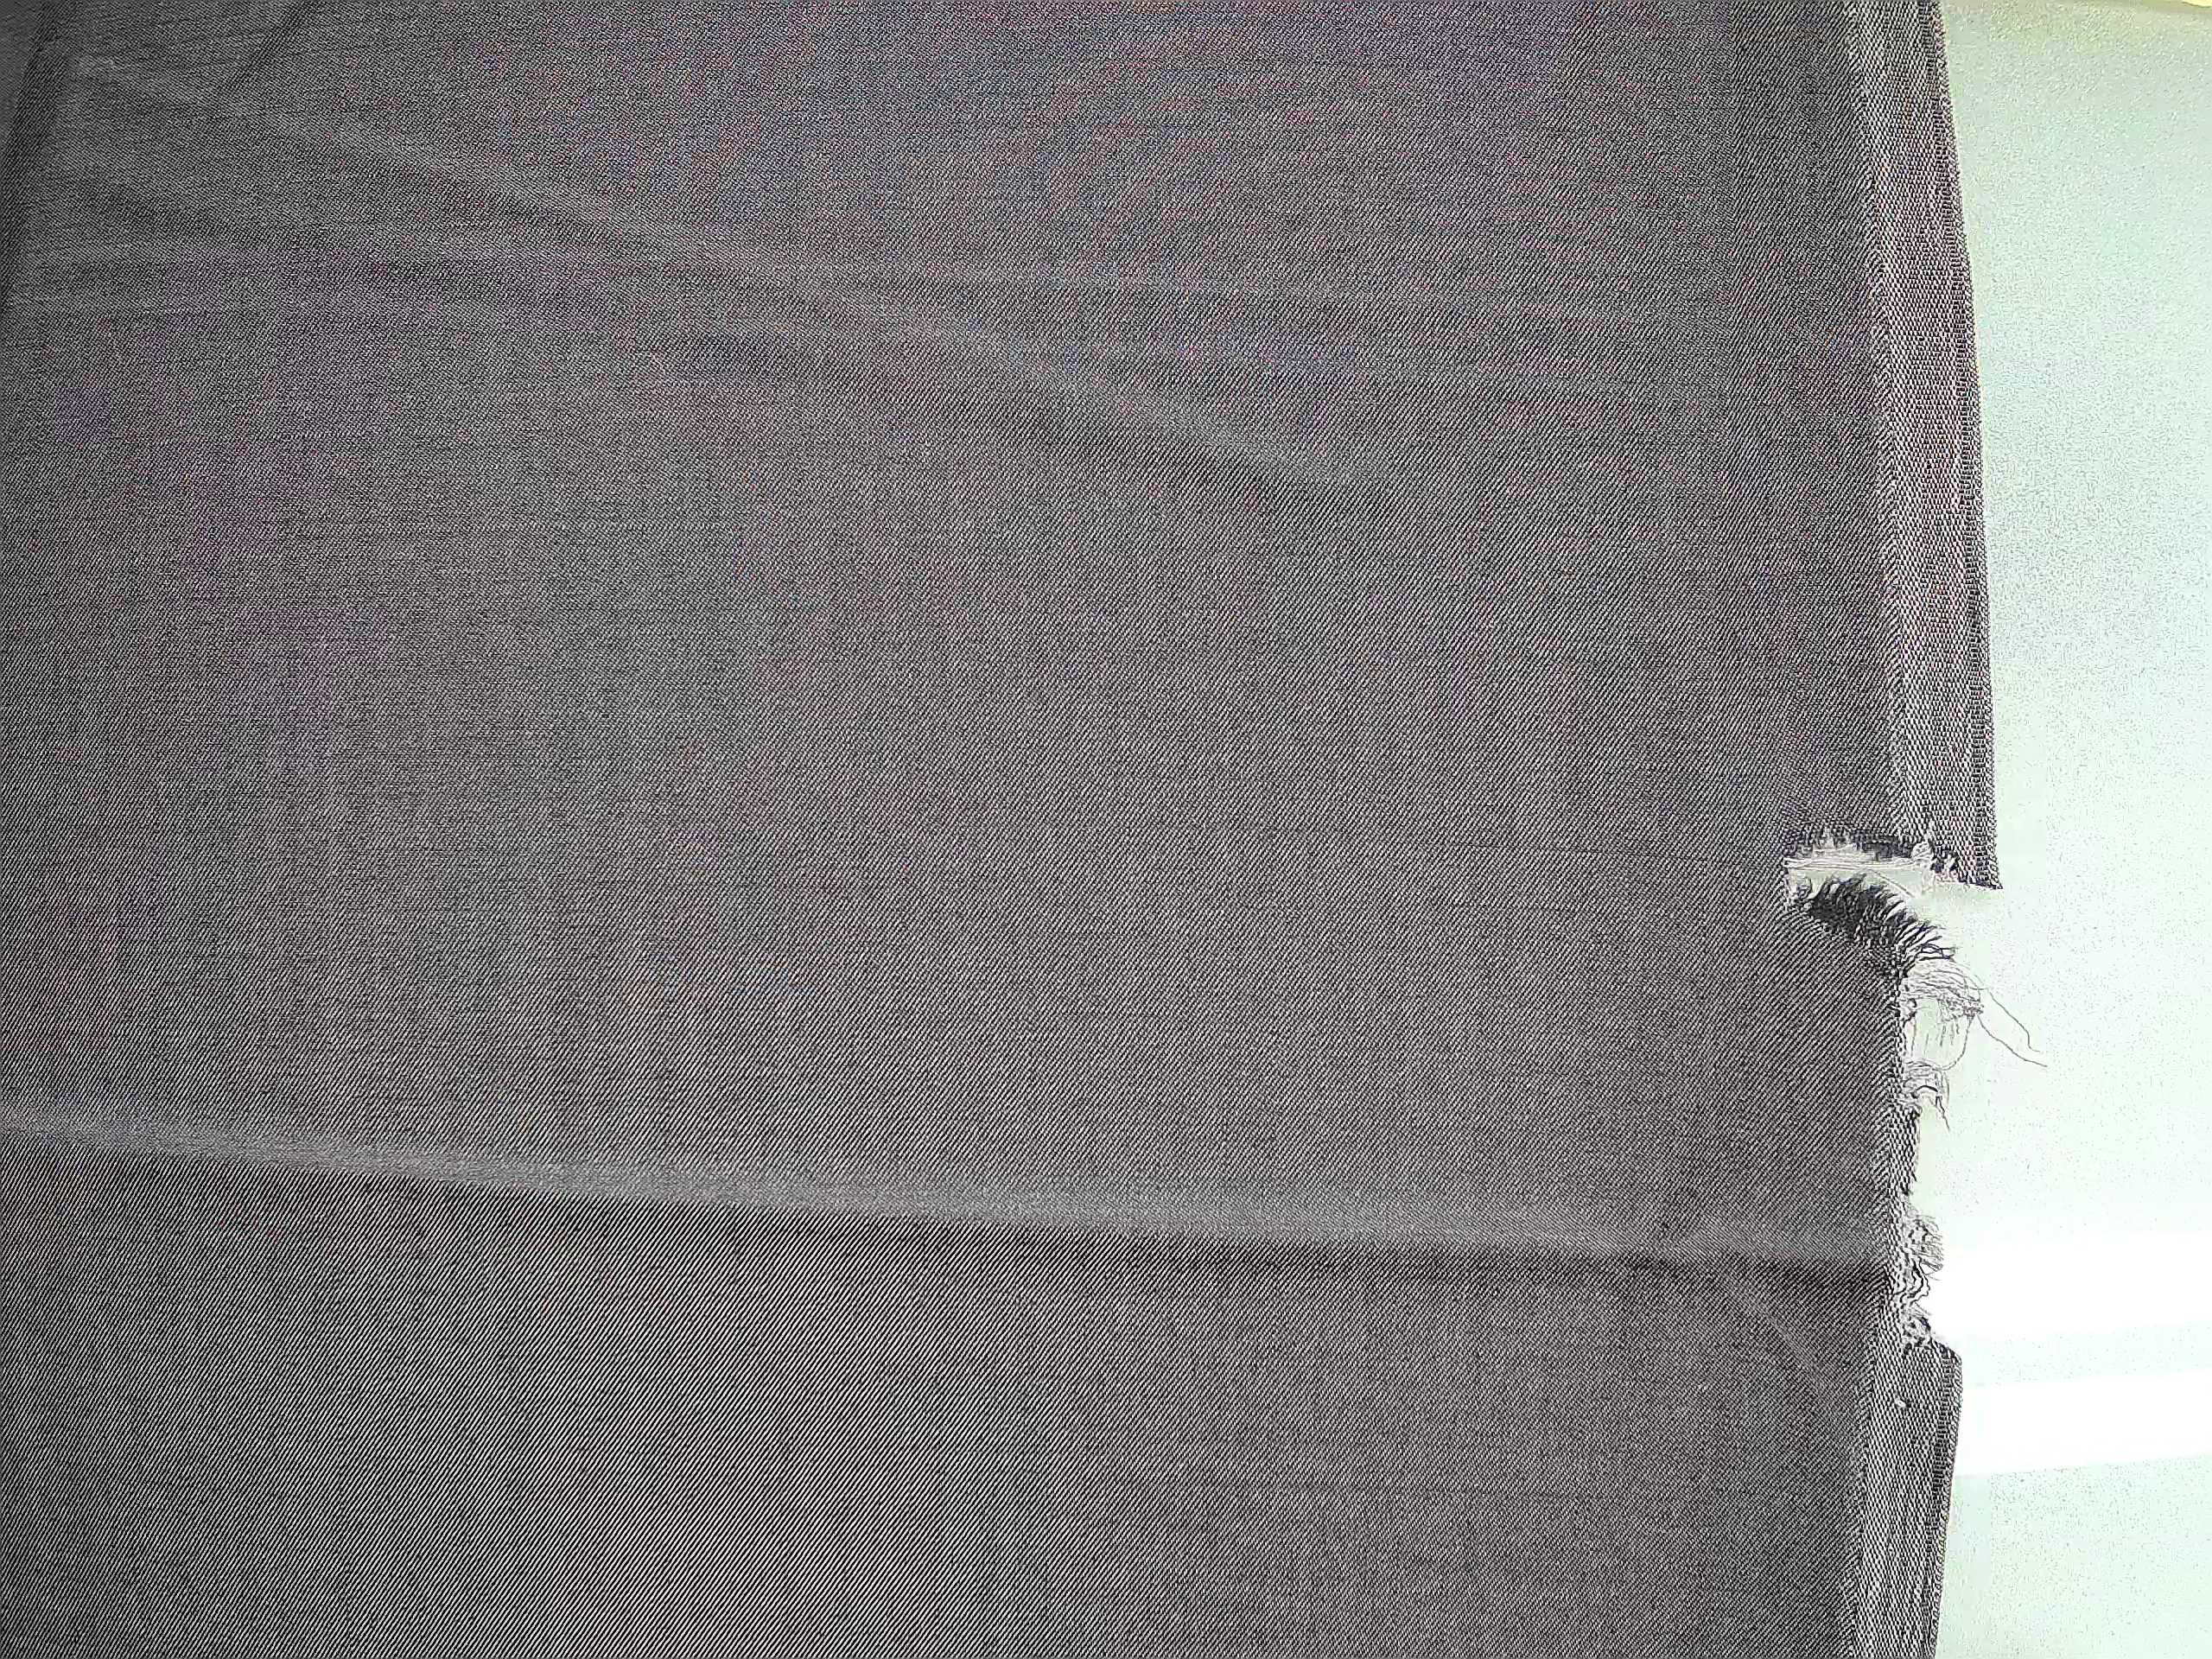others: (1731, 765, 2022, 1439)
